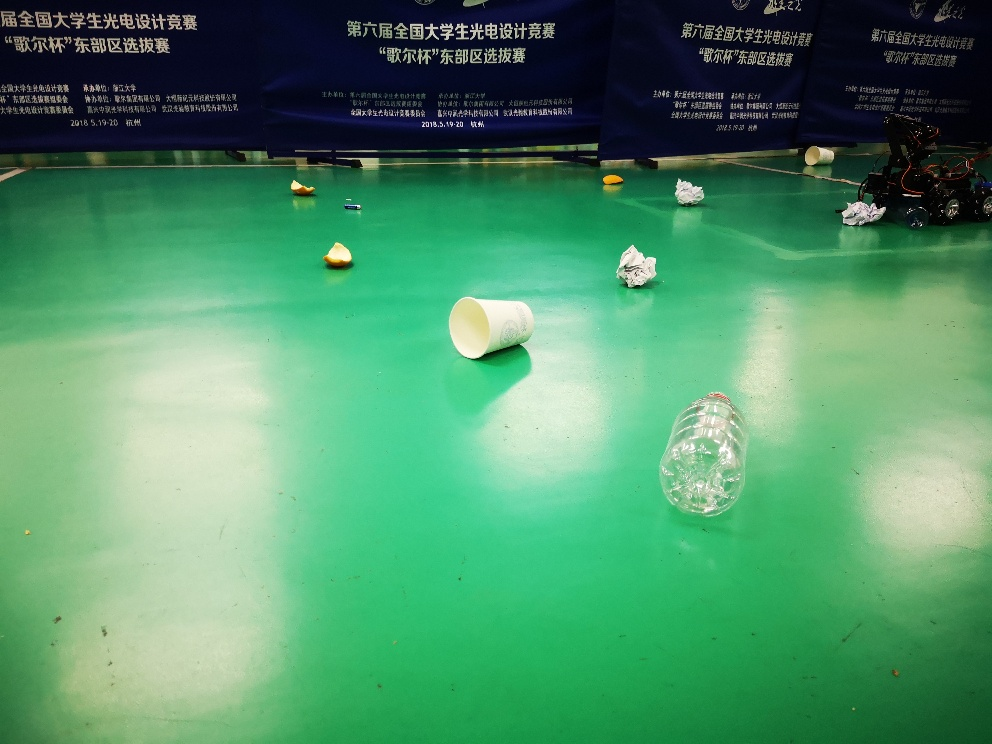battery: (340, 200, 365, 213)
bottle: (657, 388, 750, 519)
orangepeel: (319, 238, 355, 267), (287, 177, 316, 195), (599, 171, 627, 189)
papercup: (446, 293, 538, 359), (803, 145, 836, 168)
spitball: (613, 242, 659, 292), (840, 199, 887, 229), (672, 178, 707, 210)
